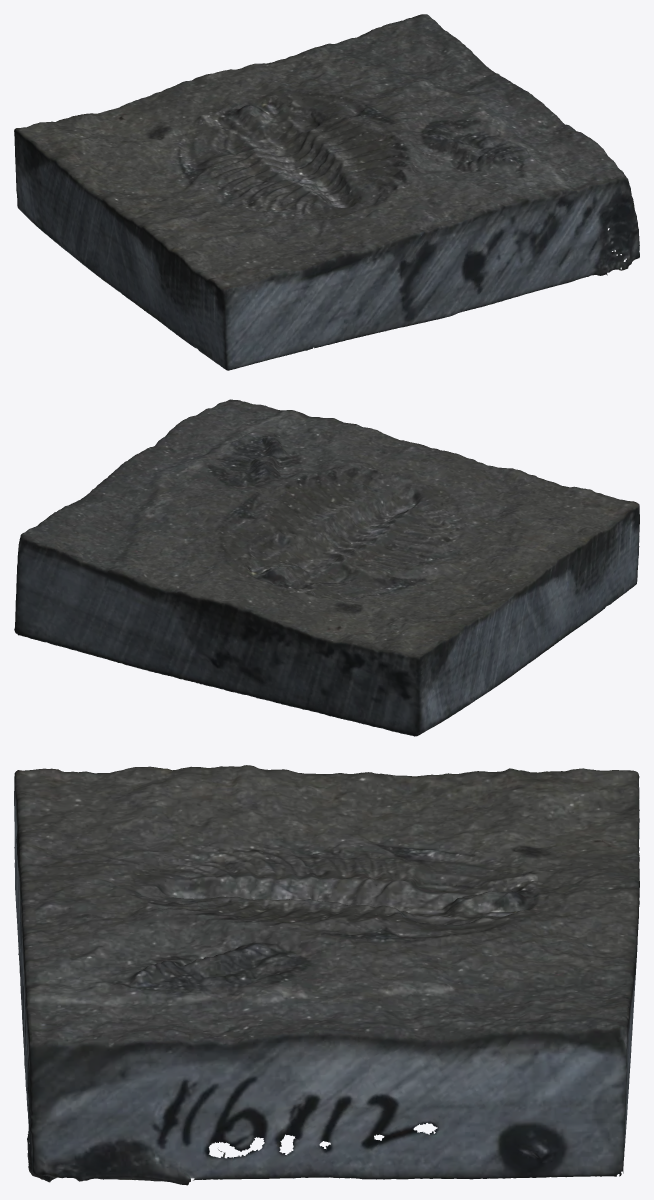
The model's file is trilobite-poliella-prima.glb.
3 renders of one model, top to bottom at view 1: azimuth 30°, elevation 25°; view 2: azimuth 150°, elevation 25°; view 3: azimuth 270°, elevation 25°, orthographic. The views are drawn at different scales.
Size of the model in its own units: 24.47 by 6.37 by 21.5.
Materials: 1 (1 with a texture image).
